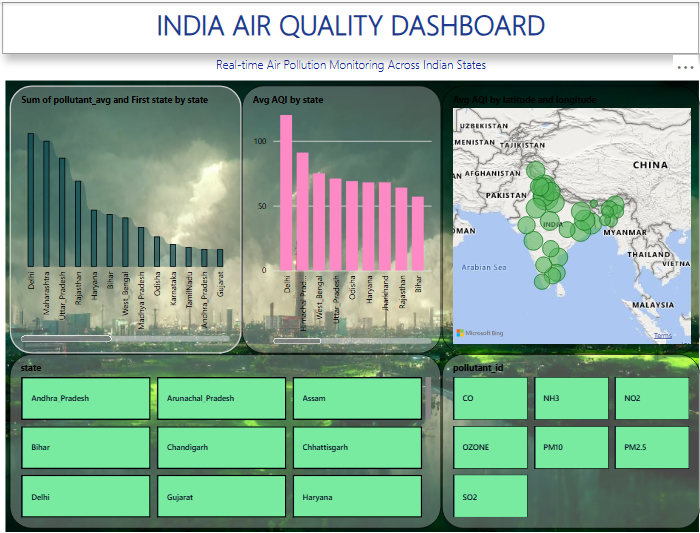

The page's visual inventory and layout, read from the dashboard file:
{"tool":"powerbi","page":{"name":"Page 2","canvas":[1280,720],"ordinal":1},"visuals":[{"type":"image","box":[0,101.5,1279.4,619.1],"z":0},{"type":"textbox","box":[167.6,0,941.2,69.1],"z":1000},{"type":"textbox","box":[167.6,69.1,941.2,44.1],"z":2000},{"type":"ribbonChart","fields":{"Category":["aqidataset.state"],"Y":["Sum(aqidataset.pollutant_avg)"]},"box":[177.9,113.2,313.2,361.8],"z":3000},{"type":"lineClusteredColumnComboChart","fields":{"Y":["aqidataset.Avg AQI"],"Category":["aqidataset.state"]},"box":[491.2,113.2,269.1,361.8],"z":4000},{"type":"map","fields":{"Y":["latitude.latitude"],"X":["longitude.longitude"],"Size":["aqidataset.Avg AQI"]},"box":[760.3,113.2,348.5,361.8],"z":5000},{"type":"advancedSlicerVisual","fields":{"Values":["aqidataset.state"]},"box":[177.9,475,582.4,235.3],"z":6000},{"type":"advancedSlicerVisual","fields":{"Values":["aqidataset.pollutant_id"]},"box":[760.3,475,348.5,235.3],"z":7000}]}

Visuals, with their boxes on the page's 1280x720 design canvas (x1, y1, x2, y2). These are canvas units, not pixel positions in the 700x533 screenshot, which may show the page scaled, cropped or inside an application window:
image: [0, 102, 1279, 721]
textbox: [168, 0, 1109, 69]
textbox: [168, 69, 1109, 113]
ribbonChart - aqidataset.state x Sum(aqidataset.pollutant_avg): [178, 113, 491, 475]
lineClusteredColumnComboChart - aqidataset.Avg AQI x aqidataset.state: [491, 113, 760, 475]
map - latitude.latitude x longitude.longitude: [760, 113, 1109, 475]
advancedSlicerVisual - aqidataset.state: [178, 475, 760, 710]
advancedSlicerVisual - aqidataset.pollutant_id: [760, 475, 1109, 710]
